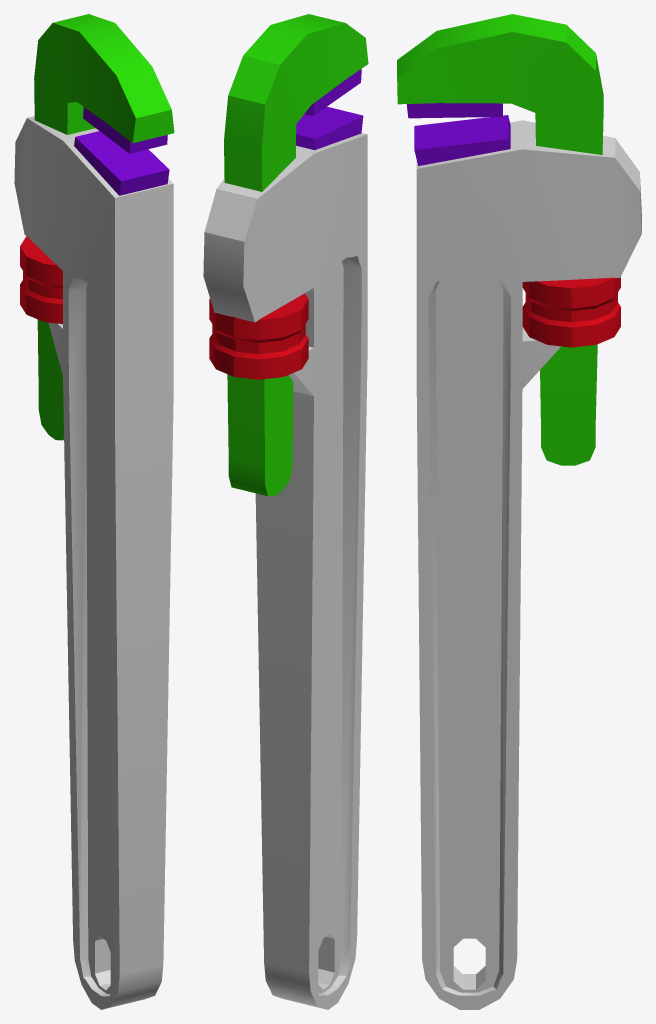
File: wrench.glb
The picture shows the model from 3 angles, left to right: view 1: azimuth 30°, elevation 25°; view 2: azimuth 150°, elevation 25°; view 3: azimuth 270°, elevation 25°; orthographic projection. The views are drawn at different scales.
Visible parts, largest first — view 1: Cube, Cube.001, Cube.002, Cylinder, Cube.004; view 2: Cube, Cube.001, Cylinder, Cube.002, Cube.004; view 3: Cube, Cube.001, Cylinder, Cube.002, Cube.004.
Boxes of the visible parts, left/top/right/bottom form: Cube: left=14, top=116, right=173, bottom=1009; Cube.001: left=34, top=14, right=174, bottom=440; Cube.002: left=74, top=131, right=169, bottom=195; Cylinder: left=20, top=236, right=62, bottom=323; Cube.004: left=83, top=107, right=167, bottom=153; Cube: left=203, top=133, right=367, bottom=1009; Cube.001: left=224, top=14, right=368, bottom=496; Cylinder: left=209, top=293, right=308, bottom=379; Cube.002: left=296, top=106, right=363, bottom=150; Cube.004: left=304, top=69, right=361, bottom=115; Cube: left=416, top=120, right=641, bottom=1009; Cube.001: left=397, top=14, right=603, bottom=465; Cylinder: left=522, top=277, right=620, bottom=347; Cube.002: left=414, top=115, right=510, bottom=165; Cube.004: left=406, top=103, right=502, bottom=118.
Size of the model in its own units: 0.1006 by 1.1 by 0.2511.
